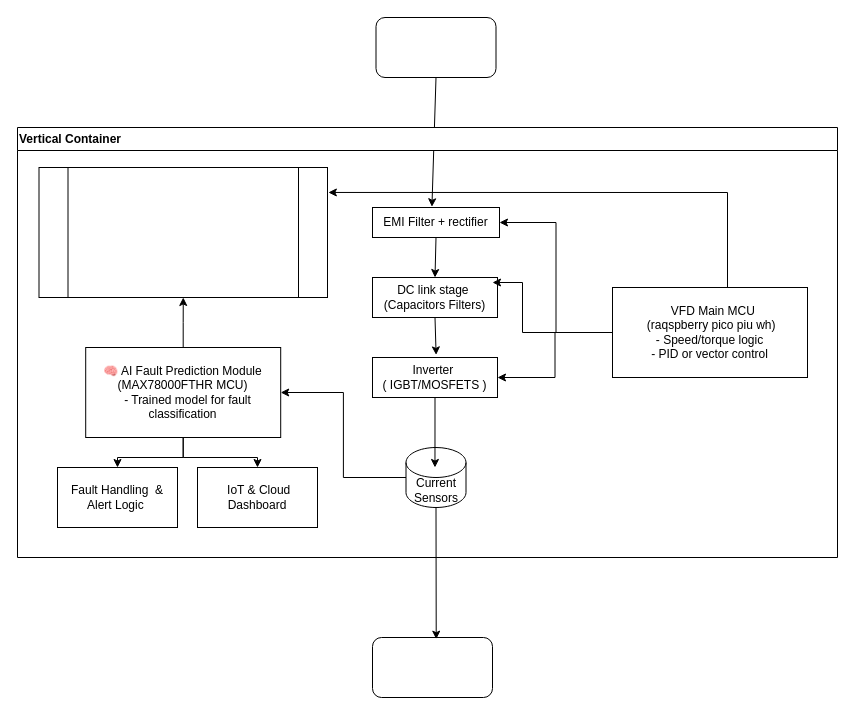
Some shapes in this 855 by 715 pixel diagram are drawn without their labels. The centre of each missing label's shape, as x and y in pixels:
"Induction Motor" goes at [432,667].
"Three phase power supply" goes at [435,47].
"User interface (lcd display witrh keypad)" goes at [183,232].
